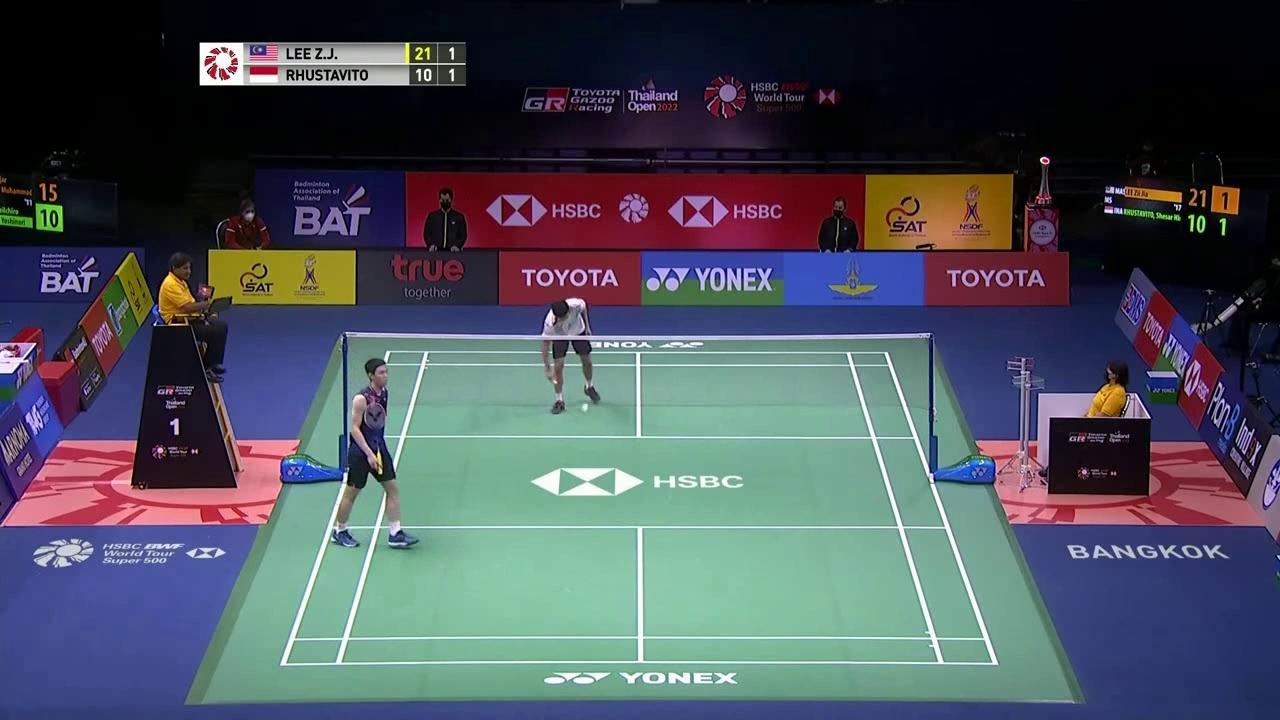racket: (365, 403, 387, 475), (549, 373, 581, 409)
shuttle: (581, 403, 589, 412)
